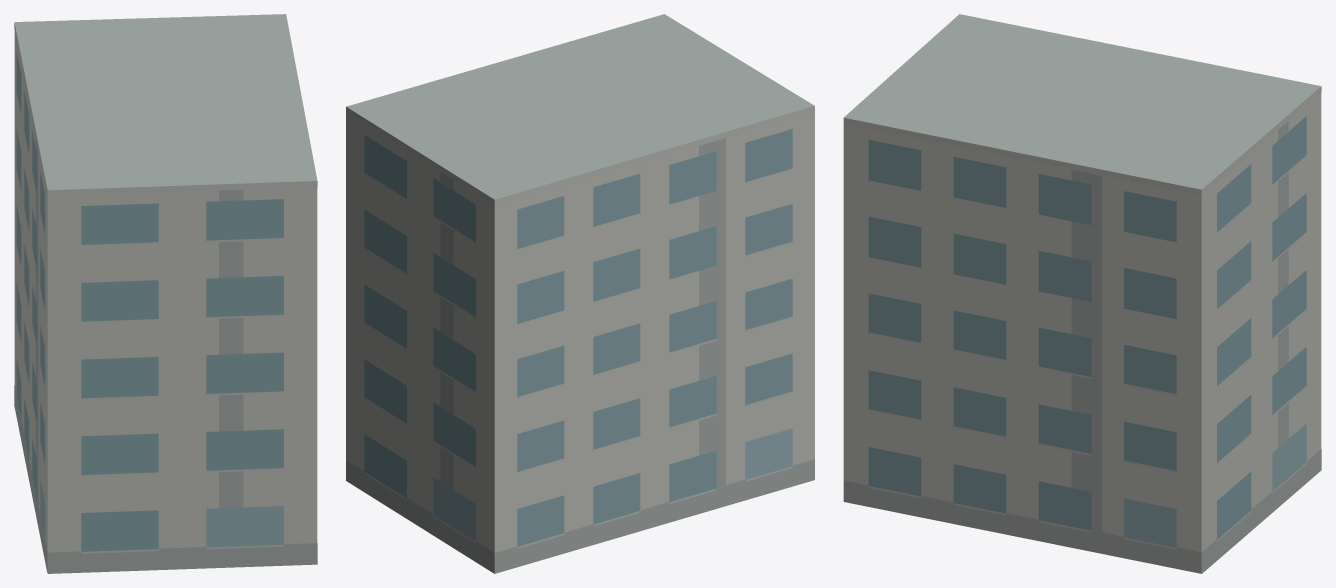
The model's file is survey-upis-32727128.glb.
3 views of the same model, side by side, from view 1: azimuth 30°, elevation 25°; view 2: azimuth 150°, elevation 25°; view 3: azimuth 270°, elevation 25° (orthographic). The views are drawn at different scales.
Visible parts, largest first — view 1: survey-upis-32727128.tmp; view 2: survey-upis-32727128.tmp; view 3: survey-upis-32727128.tmp.
Boxes of the visible parts, bbox=[...] form: survey-upis-32727128.tmp: bbox=[14, 14, 317, 573]; survey-upis-32727128.tmp: bbox=[346, 14, 814, 573]; survey-upis-32727128.tmp: bbox=[843, 14, 1321, 573].
Size of the model in its own units: 14.72 by 15 by 16.92.
